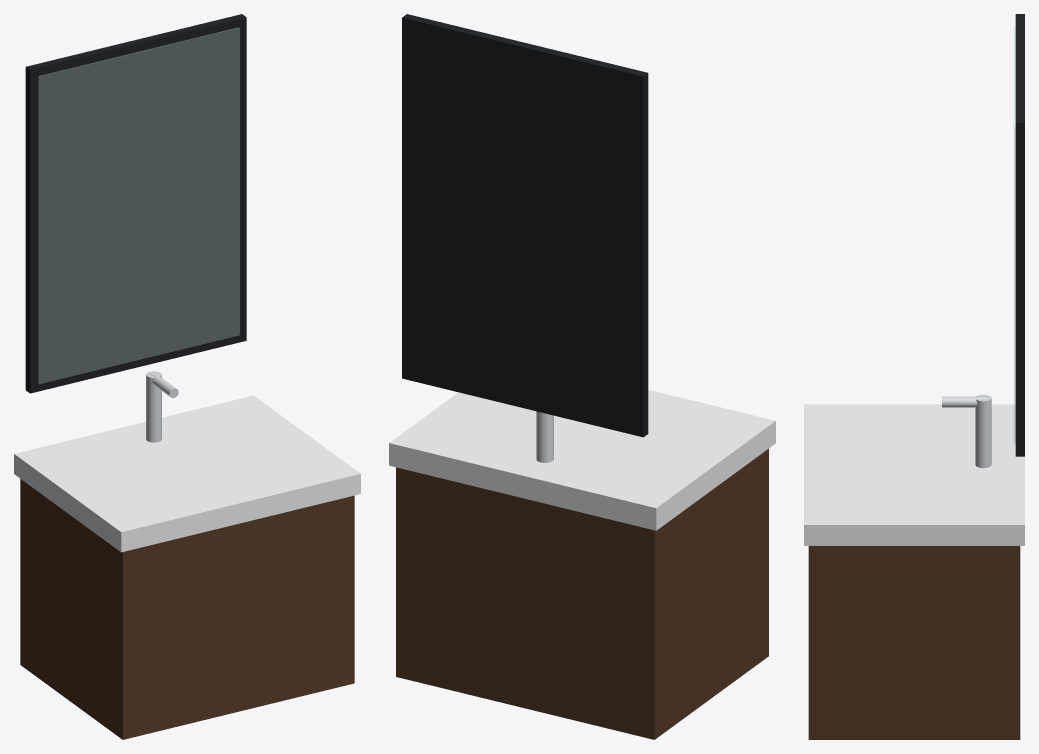
File: wash_basin.glb
The picture shows the model from 3 angles, left to right: view 1: azimuth 30°, elevation 25°; view 2: azimuth 150°, elevation 25°; view 3: azimuth 270°, elevation 25°; orthographic projection. The views are drawn at different scales.
Bounding box in the file's own units: 0.62 × 1.47 × 0.48.
